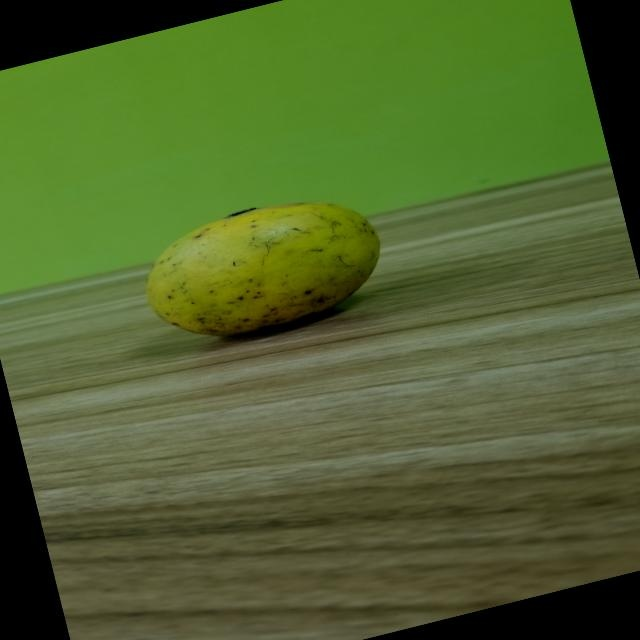agrume: (93, 172, 426, 376)
